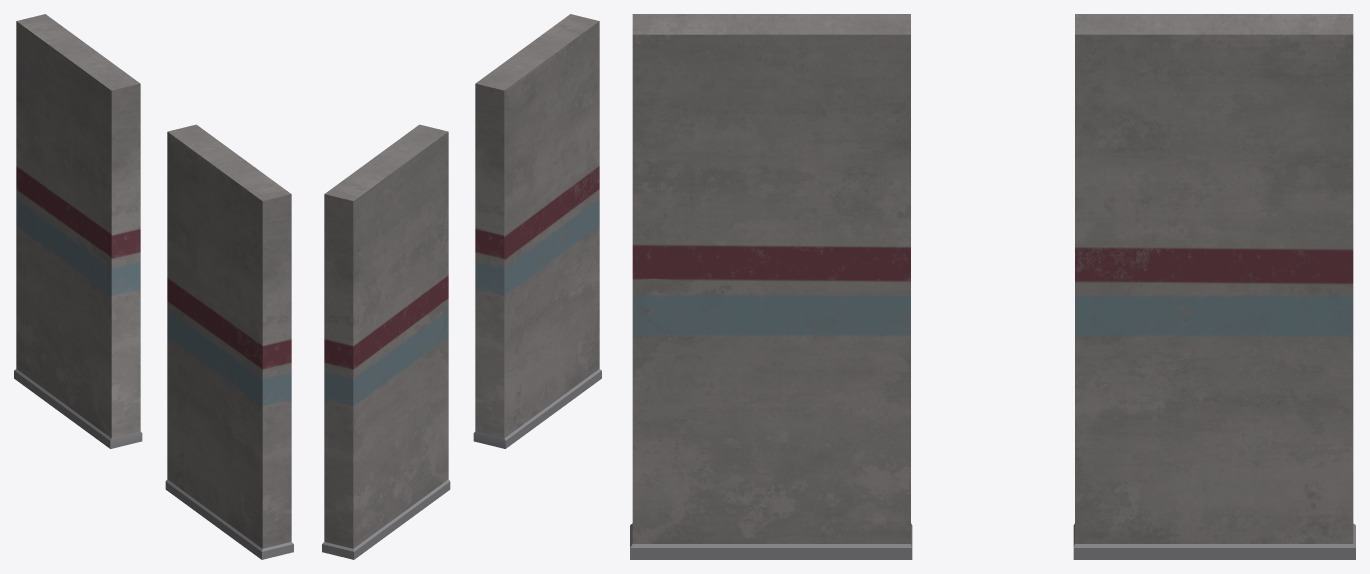
Rendered from Wall_Opening.fbx.
3 views of the same model, side by side, from view 1: azimuth 30°, elevation 25°; view 2: azimuth 150°, elevation 25°; view 3: azimuth 270°, elevation 25° (orthographic). The views are drawn at different scales.
Visible parts, largest first — view 1: Wall_Opening; view 2: Wall_Opening; view 3: Wall_Opening.
Boxes of the visible parts, <box> form: Wall_Opening: <box>14,14,293,559</box>; Wall_Opening: <box>322,14,601,559</box>; Wall_Opening: <box>630,14,1355,559</box>.
Size of the model in its own units: 56.1 by 600 by 753.
